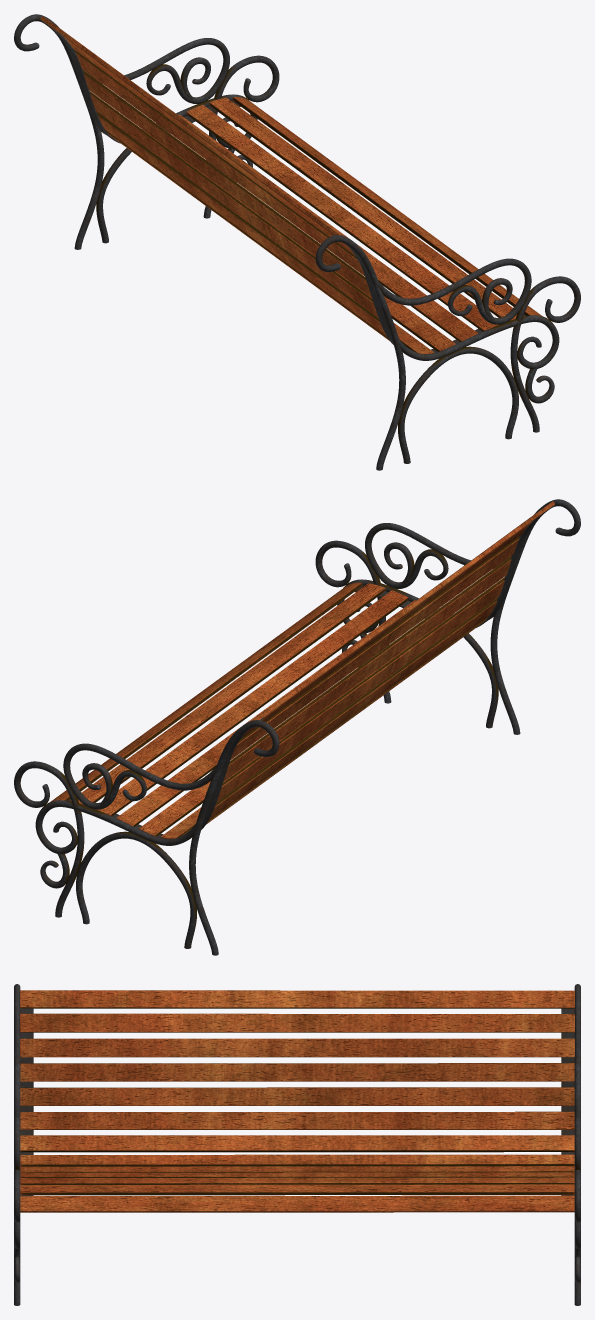
File: Bench.glb
3 views of the same model, one above another, from view 1: azimuth 30°, elevation 25°; view 2: azimuth 150°, elevation 25°; view 3: azimuth 270°, elevation 25° (orthographic). The views are drawn at different scales.
Visible parts, largest first — view 1: Bench_0; view 2: Bench_0; view 3: Bench_0.
Part boxes in pixels (x1,y1,x2,y2): Bench_0: (14,14,580,470); Bench_0: (14,499,580,955); Bench_0: (14,984,580,1305).
Bounding box in the file's own units: 1.51 × 1.33 × 3.01.
Materials: 1 (1 with a texture image).
